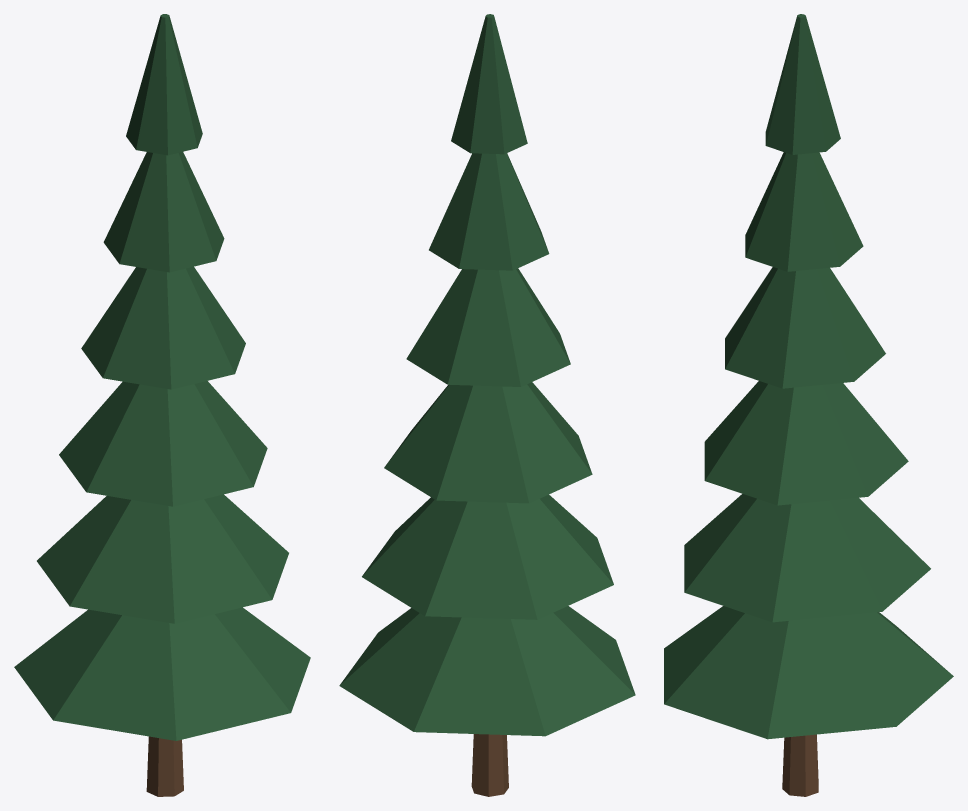
File: VG_Tree_Spruce.fbx
3 views of the same model, side by side, from view 1: azimuth 30°, elevation 25°; view 2: azimuth 150°, elevation 25°; view 3: azimuth 270°, elevation 25° (orthographic).
Visible parts, largest first — view 1: VG_Tree_Spruce_Mesh; view 2: VG_Tree_Spruce_Mesh; view 3: VG_Tree_Spruce_Mesh.
Part boxes in pixels (box(x1,y1,x2,y2)): VG_Tree_Spruce_Mesh: box(14, 14, 310, 796); VG_Tree_Spruce_Mesh: box(339, 14, 635, 796); VG_Tree_Spruce_Mesh: box(664, 14, 953, 796).
Size of the model in its own units: 2.63 by 7.55 by 2.57.
